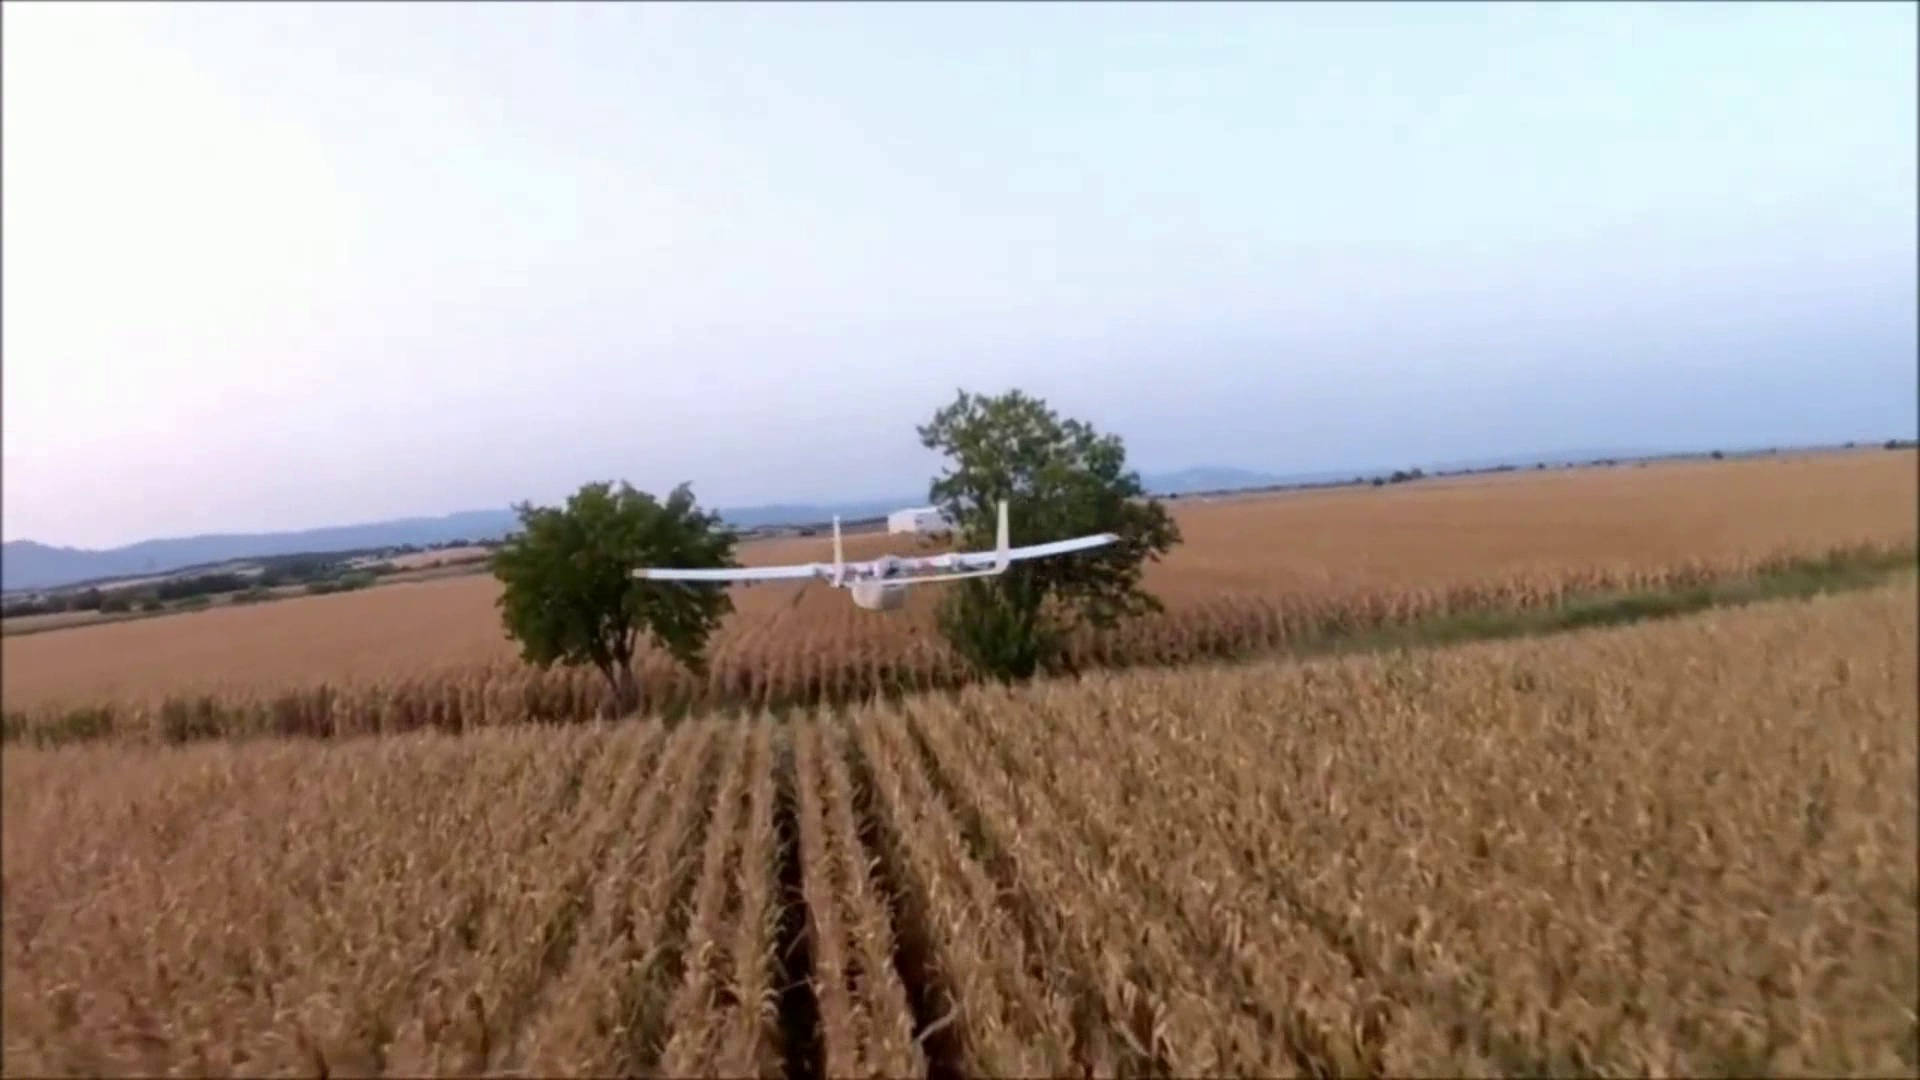airplane: (626, 527, 1124, 609)
